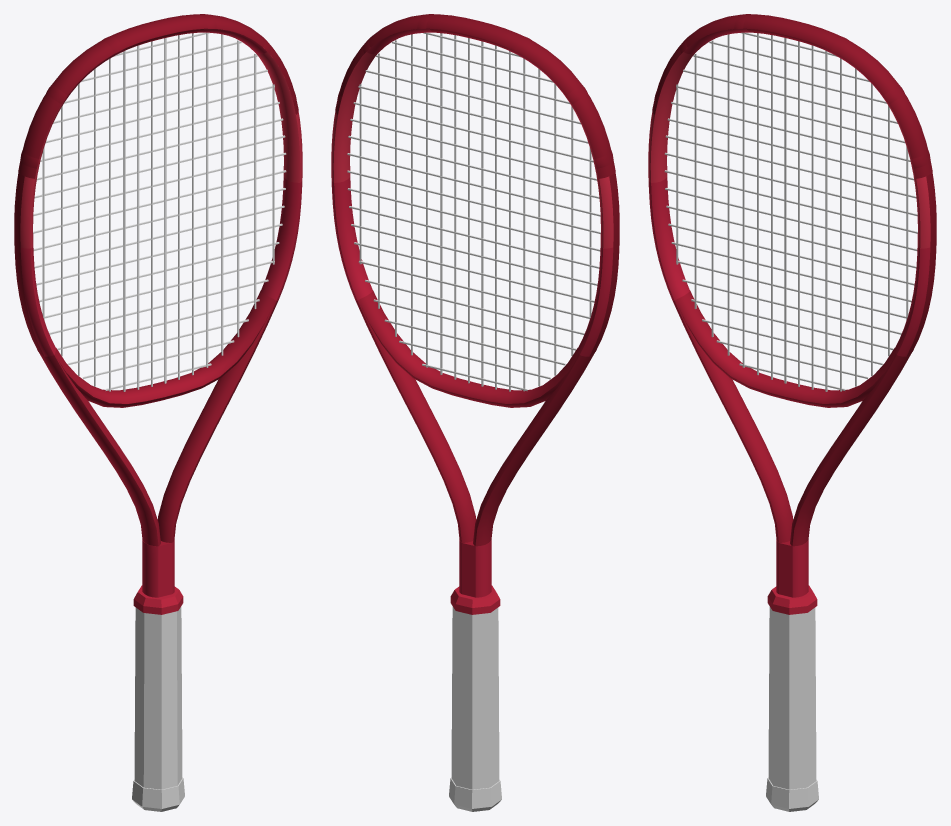
Rendered from yonex-vcore-95-2026.glb.
The picture shows the model from 3 angles, left to right: view 1: azimuth 30°, elevation 25°; view 2: azimuth 150°, elevation 25°; view 3: azimuth 330°, elevation 25°; orthographic projection.
Visible parts, largest first — view 1: frame, strings_mains, strings_crosses, grip, bumper, butt_cap, grommets, collar; view 2: frame, strings_crosses, strings_mains, grip, bumper, butt_cap, grommets, collar; view 3: frame, strings_mains, strings_crosses, grip, bumper, butt_cap, grommets, collar.
Part boxes in pixels (<box>): frame: <box>17,28,302,597</box>; strings_mains: <box>42,32,274,391</box>; strings_crosses: <box>33,32,286,390</box>; grip: <box>134,606,182,789</box>; bumper: <box>18,14,298,178</box>; butt_cap: <box>132,777,184,811</box>; grommets: <box>14,172,43,355</box>; collar: <box>133,585,183,614</box>; frame: <box>331,28,616,597</box>; strings_crosses: <box>347,32,600,391</box>; strings_mains: <box>359,33,591,391</box>; grip: <box>451,606,499,789</box>; bumper: <box>335,14,615,178</box>; butt_cap: <box>449,777,501,811</box>; grommets: <box>590,172,619,355</box>; collar: <box>450,585,500,614</box>; frame: <box>648,28,933,597</box>; strings_mains: <box>676,32,908,391</box>; strings_crosses: <box>664,32,917,390</box>; grip: <box>768,606,816,789</box>; bumper: <box>652,14,932,178</box>; butt_cap: <box>766,777,818,811</box>; grommets: <box>907,172,936,355</box>; collar: <box>767,585,817,614</box>.
Size of the model in its own units: 0.2615 by 0.6861 by 0.0396.
